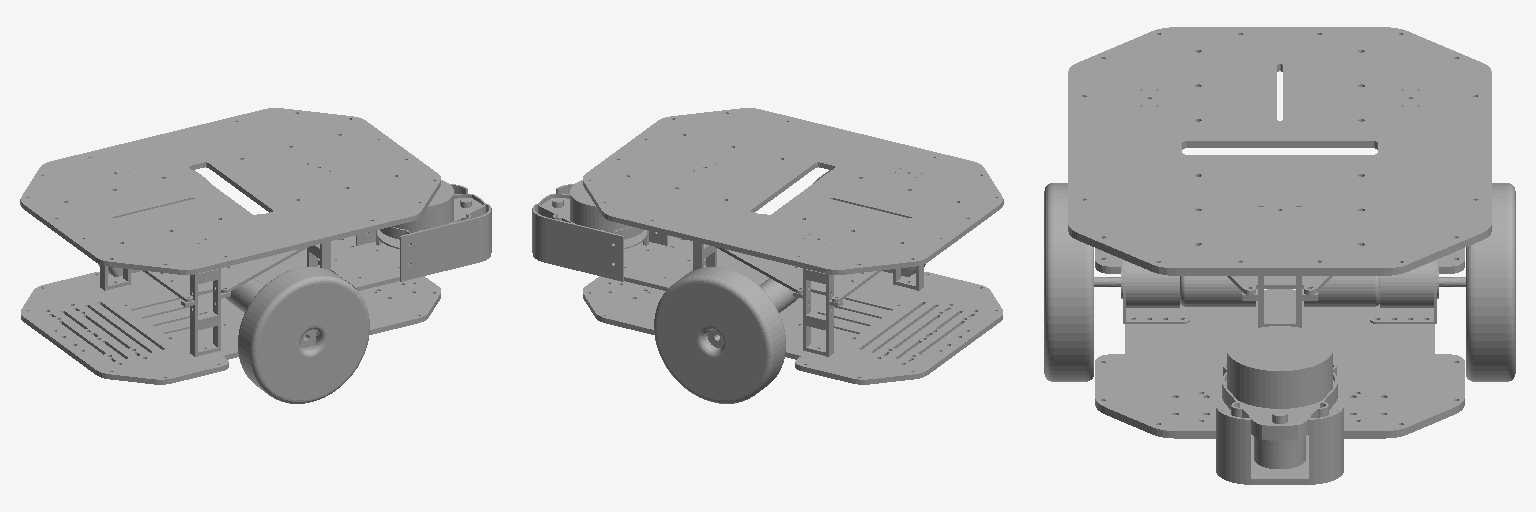
The robot description file, URDF, robot "lapras_urdf":
<?xml version="1.0" ?>
<!-- =================================================================================== -->
<!-- |    This document was autogenerated by xacro from lapras_urdf.xacro              | -->
<!-- |    EDITING THIS FILE BY HAND IS NOT RECOMMENDED                                 | -->
<!-- =================================================================================== -->
<robot name="lapras_urdf">
  <material name="silver">
    <color rgba="0.700 0.700 0.700 1.000"/>
  </material>
  <transmission name="left_wheel_joint_tran">
    <type>transmission_interface/SimpleTransmission</type>
    <joint name="left_wheel_joint">
      <hardwareInterface>hardware_interface/EffortJointInterface</hardwareInterface>
    </joint>
    <actuator name="left_wheel_joint_actr">
      <hardwareInterface>hardware_interface/EffortJointInterface</hardwareInterface>
      <mechanicalReduction>1</mechanicalReduction>
    </actuator>
  </transmission>
  <transmission name="right_wheel_joint_tran">
    <type>transmission_interface/SimpleTransmission</type>
    <joint name="right_wheel_joint">
      <hardwareInterface>hardware_interface/EffortJointInterface</hardwareInterface>
    </joint>
    <actuator name="right_wheel_joint_actr">
      <hardwareInterface>hardware_interface/EffortJointInterface</hardwareInterface>
      <mechanicalReduction>1</mechanicalReduction>
    </actuator>
  </transmission>
  <gazebo>
    <plugin filename="libgazebo_ros_control.so" name="control"/>
  </gazebo>
  <gazebo reference="base_link">
    <material>Gazebo/Silver</material>
    <mu1>0.2</mu1>
    <mu2>0.2</mu2>
    <selfCollide>true</selfCollide>
    <gravity>true</gravity>
  </gazebo>
  <gazebo reference="MotorBracket_v1_1">
    <material>Gazebo/Silver</material>
    <mu1>0.2</mu1>
    <mu2>0.2</mu2>
    <selfCollide>true</selfCollide>
  </gazebo>
  <gazebo reference="MotorBracket_v1__1__1">
    <material>Gazebo/Silver</material>
    <mu1>0.2</mu1>
    <mu2>0.2</mu2>
    <selfCollide>true</selfCollide>
  </gazebo>
  <gazebo reference="Motor_v1__1__1">
    <material>Gazebo/Silver</material>
    <mu1>0.2</mu1>
    <mu2>0.2</mu2>
    <selfCollide>true</selfCollide>
  </gazebo>
  <gazebo reference="Motor_v1_1">
    <material>Gazebo/Silver</material>
    <mu1>0.2</mu1>
    <mu2>0.2</mu2>
    <selfCollide>true</selfCollide>
  </gazebo>
  <gazebo reference="ydlidar_base_v5_1">
    <material>Gazebo/Silver</material>
    <mu1>0.2</mu1>
    <mu2>0.2</mu2>
    <selfCollide>true</selfCollide>
  </gazebo>
  <gazebo reference="Barbell_v4__2__1">
    <material>Gazebo/Silver</material>
    <mu1>0.2</mu1>
    <mu2>0.2</mu2>
    <selfCollide>true</selfCollide>
  </gazebo>
  <gazebo reference="Barbell_v4__1__1">
    <material>Gazebo/Silver</material>
    <mu1>0.2</mu1>
    <mu2>0.2</mu2>
    <selfCollide>true</selfCollide>
  </gazebo>
  <gazebo reference="Barbell_v4_1">
    <material>Gazebo/Silver</material>
    <mu1>0.2</mu1>
    <mu2>0.2</mu2>
    <selfCollide>true</selfCollide>
  </gazebo>
  <gazebo reference="mid_base_v8_1">
    <material>Gazebo/Silver</material>
    <mu1>0.2</mu1>
    <mu2>0.2</mu2>
    <selfCollide>true</selfCollide>
  </gazebo>
  <gazebo reference="ydlidar_x4_v1_1">
    <material>Gazebo/Silver</material>
    <mu1>0.2</mu1>
    <mu2>0.2</mu2>
    <selfCollide>true</selfCollide>
  </gazebo>
  <gazebo reference="topper_base_v7_1">
    <material>Gazebo/Silver</material>
    <mu1>0.2</mu1>
    <mu2>0.2</mu2>
    <selfCollide>true</selfCollide>
  </gazebo>
  <gazebo reference="left_wheel_1">
    <material>Gazebo/Silver</material>
    <mu1>0.2</mu1>
    <mu2>0.2</mu2>
    <selfCollide>true</selfCollide>
  </gazebo>
  <gazebo reference="right_wheel_1">
    <material>Gazebo/Silver</material>
    <mu1>0.2</mu1>
    <mu2>0.2</mu2>
    <selfCollide>true</selfCollide>
  </gazebo>
  <gazebo reference="caster_urdf_v2_1">
    <material>Gazebo/Silver</material>
    <mu1>0.2</mu1>
    <mu2>0.2</mu2>
    <selfCollide>true</selfCollide>
  </gazebo>
  <gazebo reference="caster_urdf_v2__1__1">
    <material>Gazebo/Silver</material>
    <mu1>0.2</mu1>
    <mu2>0.2</mu2>
    <selfCollide>true</selfCollide>
  </gazebo>
  <link name="base_link">
    <inertial>
      <origin rpy="0 0 0" xyz="0.003378781940864467 2.240969994186515e-06 0.06345999999999999"/>
      <mass value="2.66119702526629"/>
      <inertia ixx="0.00974" ixy="0.0" ixz="-0.0" iyy="0.026333" iyz="-0.0" izz="0.036062"/>
    </inertial>
    <visual>
      <origin rpy="0 0 0" xyz="0 0 0"/>
      <geometry>
        <mesh filename="package://lapras_sim/meshes/base_link.stl" scale="0.001 0.001 0.001"/>
      </geometry>
      <material name="silver"/>
    </visual>
    <collision>
      <origin rpy="0 0 0" xyz="0 0 0"/>
      <geometry>
        <mesh filename="package://lapras_sim/meshes/base_link.stl" scale="0.001 0.001 0.001"/>
      </geometry>
    </collision>
  </link>
  <link name="MotorBracket_v1_1">
    <inertial>
      <origin rpy="0 0 0" xyz="-0.015500002350700986 -0.006888187169975468 0.007341692818743625"/>
      <mass value="0.029603665959913542"/>
      <inertia ixx="9e-06" ixy="-0.0" ixz="0.0" iyy="8e-06" iyz="-2e-06" izz="9e-06"/>
    </inertial>
    <visual>
      <origin rpy="0 0 0" xyz="-0.0155 -0.09 -0.06596"/>
      <geometry>
        <mesh filename="package://lapras_sim/meshes/MotorBracket_v1_1.stl" scale="0.001 0.001 0.001"/>
      </geometry>
      <material name="silver"/>
    </visual>
    <collision>
      <origin rpy="0 0 0" xyz="-0.0155 -0.09 -0.06596"/>
      <geometry>
        <mesh filename="package://lapras_sim/meshes/MotorBracket_v1_1.stl" scale="0.001 0.001 0.001"/>
      </geometry>
    </collision>
  </link>
  <link name="MotorBracket_v1__1__1">
    <inertial>
      <origin rpy="0 0 0" xyz="0.01550000235070098 0.006888187169975399 0.007341692818743681"/>
      <mass value="0.029603665959913542"/>
      <inertia ixx="9e-06" ixy="-0.0" ixz="-0.0" iyy="8e-06" iyz="2e-06" izz="9e-06"/>
    </inertial>
    <visual>
      <origin rpy="0 0 0" xyz="0.0155 0.09 -0.06596"/>
      <geometry>
        <mesh filename="package://lapras_sim/meshes/MotorBracket_v1__1__1.stl" scale="0.001 0.001 0.001"/>
      </geometry>
      <material name="silver"/>
    </visual>
    <collision>
      <origin rpy="0 0 0" xyz="0.0155 0.09 -0.06596"/>
      <geometry>
        <mesh filename="package://lapras_sim/meshes/MotorBracket_v1__1__1.stl" scale="0.001 0.001 0.001"/>
      </geometry>
    </collision>
  </link>
  <link name="Motor_v1__1__1">
    <inertial>
      <origin rpy="0 0 0" xyz="-0.009191401001469089 -0.03790852980642254 0.009191999999481462"/>
      <mass value="0.47787780551719694"/>
      <inertia ixx="0.000299" ixy="-0.0" ixz="-0.0" iyy="5.6e-05" iyz="0.0" izz="0.000299"/>
    </inertial>
    <visual>
      <origin rpy="0 0 0" xyz="-0.009192 -0.094569 -0.075837"/>
      <geometry>
        <mesh filename="package://lapras_sim/meshes/Motor_v1__1__1.stl" scale="0.001 0.001 0.001"/>
      </geometry>
      <material name="silver"/>
    </visual>
    <collision>
      <origin rpy="0 0 0" xyz="-0.009192 -0.094569 -0.075837"/>
      <geometry>
        <mesh filename="package://lapras_sim/meshes/Motor_v1__1__1.stl" scale="0.001 0.001 0.001"/>
      </geometry>
    </collision>
  </link>
  <link name="Motor_v1_1">
    <inertial>
      <origin rpy="0 0 0" xyz="-0.009191400405422592 0.03790852980642258 0.009192000000518591"/>
      <mass value="0.47787780551719694"/>
      <inertia ixx="0.000299" ixy="0.0" ixz="0.0" iyy="5.6e-05" iyz="0.0" izz="0.000299"/>
    </inertial>
    <visual>
      <origin rpy="0 0 0" xyz="-0.009192 0.094569 -0.075837"/>
      <geometry>
        <mesh filename="package://lapras_sim/meshes/Motor_v1_1.stl" scale="0.001 0.001 0.001"/>
      </geometry>
      <material name="silver"/>
    </visual>
    <collision>
      <origin rpy="0 0 0" xyz="-0.009192 0.094569 -0.075837"/>
      <geometry>
        <mesh filename="package://lapras_sim/meshes/Motor_v1_1.stl" scale="0.001 0.001 0.001"/>
      </geometry>
    </collision>
  </link>
  <link name="ydlidar_base_v5_1">
    <inertial>
      <origin rpy="0 0 0" xyz="0.06761097664511198 0.020859849955070977 0.008623214289900732"/>
      <mass value="0.469663968235366"/>
      <inertia ixx="0.000427" ixy="-0.0" ixz="-6.2e-05" iyy="0.000887" iyz="0.0" izz="0.001181"/>
    </inertial>
    <visual>
      <origin rpy="0 0 0" xyz="-0.11914 0.02086 -0.06596"/>
      <geometry>
        <mesh filename="package://lapras_sim/meshes/ydlidar_base_v5_1.stl" scale="0.001 0.001 0.001"/>
      </geometry>
      <material name="silver"/>
    </visual>
    <collision>
      <origin rpy="0 0 0" xyz="-0.11914 0.02086 -0.06596"/>
      <geometry>
        <mesh filename="package://lapras_sim/meshes/ydlidar_base_v5_1.stl" scale="0.001 0.001 0.001"/>
      </geometry>
    </collision>
  </link>
  <link name="Barbell_v4__2__1">
    <inertial>
      <origin rpy="0 0 0" xyz="-5.551115123125783e-17 -3.1879089884571067e-15 0.052581463666413836"/>
      <mass value="0.09798102385329209"/>
      <inertia ixx="0.000112" ixy="0.0" ixz="0.0" iyy="0.000102" iyz="-0.0" izz="1.1e-05"/>
    </inertial>
    <visual>
      <origin rpy="0 0 0" xyz="-0.09 -0.0 -0.06596"/>
      <geometry>
        <mesh filename="package://lapras_sim/meshes/Barbell_v4__2__1.stl" scale="0.001 0.001 0.001"/>
      </geometry>
      <material name="silver"/>
    </visual>
    <collision>
      <origin rpy="0 0 0" xyz="-0.09 -0.0 -0.06596"/>
      <geometry>
        <mesh filename="package://lapras_sim/meshes/Barbell_v4__2__1.stl" scale="0.001 0.001 0.001"/>
      </geometry>
    </collision>
  </link>
  <link name="Barbell_v4__1__1">
    <inertial>
      <origin rpy="0 0 0" xyz="-3.2057689836051395e-15 -1.3877787807814457e-17 0.052581463666413794"/>
      <mass value="0.09798102385329208"/>
      <inertia ixx="0.000102" ixy="0.0" ixz="-0.0" iyy="0.000112" iyz="0.0" izz="1.1e-05"/>
    </inertial>
    <visual>
      <origin rpy="0 0 0" xyz="0.072 0.08 -0.06596"/>
      <geometry>
        <mesh filename="package://lapras_sim/meshes/Barbell_v4__1__1.stl" scale="0.001 0.001 0.001"/>
      </geometry>
      <material name="silver"/>
    </visual>
    <collision>
      <origin rpy="0 0 0" xyz="0.072 0.08 -0.06596"/>
      <geometry>
        <mesh filename="package://lapras_sim/meshes/Barbell_v4__1__1.stl" scale="0.001 0.001 0.001"/>
      </geometry>
    </collision>
  </link>
  <link name="Barbell_v4_1">
    <inertial>
      <origin rpy="0 0 0" xyz="3.1780134079895106e-15 0.0 0.05258146366641378"/>
      <mass value="0.09798102385329209"/>
      <inertia ixx="0.000102" ixy="0.0" ixz="0.0" iyy="0.000112" iyz="0.0" izz="1.1e-05"/>
    </inertial>
    <visual>
      <origin rpy="0 0 0" xyz="0.072 -0.08 -0.06596"/>
      <geometry>
        <mesh filename="package://lapras_sim/meshes/Barbell_v4_1.stl" scale="0.001 0.001 0.001"/>
      </geometry>
      <material name="silver"/>
    </visual>
    <collision>
      <origin rpy="0 0 0" xyz="0.072 -0.08 -0.06596"/>
      <geometry>
        <mesh filename="package://lapras_sim/meshes/Barbell_v4_1.stl" scale="0.001 0.001 0.001"/>
      </geometry>
    </collision>
  </link>
  <link name="mid_base_v8_1">
    <inertial>
      <origin rpy="0 0 0" xyz="0.07124371334793965 -0.0799683699998151 0.001500000000000043"/>
      <mass value="0.49453185821915246"/>
      <inertia ixx="0.000754" ixy="4e-06" ixz="0.0" iyy="0.001164" iyz="0.0" izz="0.001918"/>
    </inertial>
    <visual>
      <origin rpy="0 0 0" xyz="0.0905 -0.08 -0.12021"/>
      <geometry>
        <mesh filename="package://lapras_sim/meshes/mid_base_v8_1.stl" scale="0.001 0.001 0.001"/>
      </geometry>
      <material name="silver"/>
    </visual>
    <collision>
      <origin rpy="0 0 0" xyz="0.0905 -0.08 -0.12021"/>
      <geometry>
        <mesh filename="package://lapras_sim/meshes/mid_base_v8_1.stl" scale="0.001 0.001 0.001"/>
      </geometry>
    </collision>
  </link>
  <link name="ydlidar_x4_v1_1">
    <inertial>
      <origin rpy="0 0 0" xyz="0.03029455171374079 0.030999849954996873 0.03770114222279111"/>
      <mass value="1.1515616542314233"/>
      <inertia ixx="0.000489" ixy="-0.0" ixz="0.000148" iyy="0.000861" iyz="-0.0" izz="0.000987"/>
    </inertial>
    <visual>
      <origin rpy="0 0 0" xyz="-0.168364 0.031 -0.06996"/>
      <geometry>
        <mesh filename="package://lapras_sim/meshes/ydlidar_x4_v1_1.stl" scale="0.001 0.001 0.001"/>
      </geometry>
      <material name="silver"/>
    </visual>
    <collision>
      <origin rpy="0 0 0" xyz="-0.168364 0.031 -0.06996"/>
      <geometry>
        <mesh filename="package://lapras_sim/meshes/ydlidar_x4_v1_1.stl" scale="0.001 0.001 0.001"/>
      </geometry>
    </collision>
  </link>
  <link name="topper_base_v7_1">
    <inertial>
      <origin rpy="0 0 0" xyz="0.07230390007609636 -0.07999999999999996 0.0024999999999999745"/>
      <mass value="3.18470053243339"/>
      <inertia ixx="0.016652" ixy="0.0" ixz="0.0" iyy="0.029765" iyz="0.0" izz="0.046404"/>
    </inertial>
    <visual>
      <origin rpy="0 0 0" xyz="0.072 -0.08 -0.17096"/>
      <geometry>
        <mesh filename="package://lapras_sim/meshes/topper_base_v7_1.stl" scale="0.001 0.001 0.001"/>
      </geometry>
      <material name="silver"/>
    </visual>
    <collision>
      <origin rpy="0 0 0" xyz="0.072 -0.08 -0.17096"/>
      <geometry>
        <mesh filename="package://lapras_sim/meshes/topper_base_v7_1.stl" scale="0.001 0.001 0.001"/>
      </geometry>
    </collision>
  </link>
  <link name="left_wheel_1">
    <inertial>
      <origin rpy="0 0 0" xyz="-2.979255688107887e-10 0.015140536035911395 1.3877787807814457e-17"/>
      <mass value="2.7295236460278423"/>
      <inertia ixx="0.002744" ixy="-0.0" ixz="0.0" iyy="0.005075" iyz="0.0" izz="0.002744"/>
    </inertial>
    <visual>
      <origin rpy="0 0 0" xyz="0.0 -0.113869 -0.085029"/>
      <geometry>
        <mesh filename="package://lapras_sim/meshes/left_wheel_1.stl" scale="0.001 0.001 0.001"/>
      </geometry>
      <material name="silver"/>
    </visual>
    <collision>
      <origin rpy="0 0 0" xyz="0.0 -0.113869 -0.085029"/>
      <geometry>
        <mesh filename="package://lapras_sim/meshes/left_wheel_1.stl" scale="0.001 0.001 0.001"/>
      </geometry>
    </collision>
  </link>
  <link name="right_wheel_1">
    <inertial>
      <origin rpy="0 0 0" xyz="2.981209200907584e-10 -0.015140536035911367 9.71445146547012e-17"/>
      <mass value="2.7295236460278423"/>
      <inertia ixx="0.002744" ixy="0.0" ixz="0.0" iyy="0.005075" iyz="0.0" izz="0.002744"/>
    </inertial>
    <visual>
      <origin rpy="0 0 0" xyz="-0.0 0.113869 -0.085029"/>
      <geometry>
        <mesh filename="package://lapras_sim/meshes/right_wheel_1.stl" scale="0.001 0.001 0.001"/>
      </geometry>
      <material name="silver"/>
    </visual>
    <collision>
      <origin rpy="0 0 0" xyz="-0.0 0.113869 -0.085029"/>
      <geometry>
        <mesh filename="package://lapras_sim/meshes/right_wheel_1.stl" scale="0.001 0.001 0.001"/>
      </geometry>
    </collision>
  </link>
  <link name="caster_urdf_v4__1__1">
    <inertial>
      <origin rpy="0 0 0" xyz="-9.828451930510296e-06 4.13190816823857e-06 -0.00964031607284841"/>
      <mass value="0.14226334327662343"/>
      <inertia ixx="1.9e-05" ixy="0.0" ixz="-0.0" iyy="2.2e-05" iyz="0.0" izz="2.3e-05"/>
    </inertial>
    <visual>
      <origin rpy="0 0 0" xyz="-0.14 -0.0 -0.06096"/>
      <geometry>
        <mesh filename="package://lapras_sim/meshes/caster_urdf_v4__1__1.stl" scale="0.001 0.001 0.001"/>
      </geometry>
      <material name="silver"/>
    </visual>
    <collision>
      <origin rpy="0 0 0" xyz="-0.14 -0.0 -0.06096"/>
      <geometry>
        <mesh filename="package://lapras_sim/meshes/caster_urdf_v4__1__1.stl" scale="0.001 0.001 0.001"/>
      </geometry>
    </collision>
  </link>
  <link name="caster_urdf_v4_1">
    <inertial>
      <origin rpy="0 0 0" xyz="0.012490171548069612 0.009504131908168236 -0.00964031607284841"/>
      <mass value="0.14226334327662343"/>
      <inertia ixx="1.9e-05" ixy="0.0" ixz="-0.0" iyy="2.2e-05" iyz="0.0" izz="2.3e-05"/>
    </inertial>
    <visual>
      <origin rpy="0 0 0" xyz="0.14 0.0095 -0.06096"/>
      <geometry>
        <mesh filename="package://lapras_sim/meshes/caster_urdf_v4_1.stl" scale="0.001 0.001 0.001"/>
      </geometry>
      <material name="silver"/>
    </visual>
    <collision>
      <origin rpy="0 0 0" xyz="0.14 0.0095 -0.06096"/>
      <geometry>
        <mesh filename="package://lapras_sim/meshes/caster_urdf_v4_1.stl" scale="0.001 0.001 0.001"/>
      </geometry>
    </collision>
  </link>
  <joint name="Rigid29" type="fixed">
    <origin rpy="0 0 0" xyz="0.0155 0.09 0.06596"/>
    <parent link="base_link"/>
    <child link="MotorBracket_v1_1"/>
  </joint>
  <joint name="Rigid30" type="fixed">
    <origin rpy="0 0 0" xyz="-0.0155 -0.09 0.06596"/>
    <parent link="base_link"/>
    <child link="MotorBracket_v1__1__1"/>
  </joint>
  <joint name="Rigid31" type="fixed">
    <origin rpy="0 0 0" xyz="-0.006308 0.004569 0.009877"/>
    <parent link="MotorBracket_v1_1"/>
    <child link="Motor_v1__1__1"/>
  </joint>
  <joint name="Rigid32" type="fixed">
    <origin rpy="0 0 0" xyz="0.024692 -0.004569 0.009877"/>
    <parent link="MotorBracket_v1__1__1"/>
    <child link="Motor_v1_1"/>
  </joint>
  <joint name="Rigid35" type="fixed">
    <origin rpy="0 0 0" xyz="0.11914 -0.02086 0.06596"/>
    <parent link="base_link"/>
    <child link="ydlidar_base_v5_1"/>
  </joint>
  <joint name="Rigid36" type="fixed">
    <origin rpy="0 0 0" xyz="0.09 0.0 0.06596"/>
    <parent link="base_link"/>
    <child link="Barbell_v4__2__1"/>
  </joint>
  <joint name="Rigid37" type="fixed">
    <origin rpy="0 0 0" xyz="-0.072 -0.08 0.06596"/>
    <parent link="base_link"/>
    <child link="Barbell_v4__1__1"/>
  </joint>
  <joint name="Rigid38" type="fixed">
    <origin rpy="0 0 0" xyz="-0.072 0.08 0.06596"/>
    <parent link="base_link"/>
    <child link="Barbell_v4_1"/>
  </joint>
  <joint name="Rigid39" type="fixed">
    <origin rpy="0 0 0" xyz="-0.0185 0.0 0.05425"/>
    <parent link="Barbell_v4_1"/>
    <child link="mid_base_v8_1"/>
  </joint>
  <joint name="Rigid40" type="fixed">
    <origin rpy="0 0 0" xyz="0.049224 -0.01014 0.004"/>
    <parent link="ydlidar_base_v5_1"/>
    <child link="ydlidar_x4_v1_1"/>
  </joint>
  <joint name="Rigid41" type="fixed">
    <origin rpy="0 0 0" xyz="0.0 0.0 0.105"/>
    <parent link="Barbell_v4_1"/>
    <child link="topper_base_v7_1"/>
  </joint>
  <joint name="left_wheel_joint" type="continuous">
    <origin rpy="0 0 0" xyz="-0.009192 0.0193 0.009192"/>
    <parent link="Motor_v1__1__1"/>
    <child link="left_wheel_1"/>
    <axis xyz="0.0 1.0 0.0"/>
  </joint>
  <joint name="right_wheel_joint" type="continuous">
    <origin rpy="0 0 0" xyz="-0.009192 -0.0193 0.009192"/>
    <parent link="Motor_v1_1"/>
    <child link="right_wheel_1"/>
    <axis xyz="-0.0 -1.0 0.0"/>
  </joint>
  <joint name="Rigid50" type="fixed">
    <origin rpy="0 0 0" xyz="0.14 0.0 0.06096"/>
    <parent link="base_link"/>
    <child link="caster_urdf_v4__1__1"/>
  </joint>
  <joint name="Rigid51" type="fixed">
    <origin rpy="0 0 0" xyz="-0.14 -0.0095 0.06096"/>
    <parent link="base_link"/>
    <child link="caster_urdf_v4_1"/>
  </joint>
</robot>

--- What the picture shows (computed from the rendered views, not written in the file) ---
The picture shows the robot from 3 angles, left to right: view 1: azimuth 30°, elevation 25°; view 2: azimuth 150°, elevation 25°; view 3: azimuth 270°, elevation 25°; orthographic projection.
Robot: lapras_urdf — 16 links, 15 joints (2 continuous, 13 fixed); root link base_link; default pose: all joints at 0.
Visible links, largest first — view 1: topper_base_v7_1, base_link, right_wheel_1, ydlidar_base_v5_1, ydlidar_x4_v1_1, mid_base_v8_1, Barbell_v4__1__1, Motor_v1_1, Barbell_v4__2__1; view 2: topper_base_v7_1, base_link, left_wheel_1, ydlidar_base_v5_1, ydlidar_x4_v1_1, mid_base_v8_1, Barbell_v4_1, Motor_v1__1__1, Barbell_v4__2__1; view 3: topper_base_v7_1, base_link, ydlidar_x4_v1_1, left_wheel_1, right_wheel_1, ydlidar_base_v5_1, Motor_v1__1__1, Motor_v1_1, MotorBracket_v1_1, MotorBracket_v1__1__1, mid_base_v8_1, Barbell_v4__2__1.
Boxes of the visible links, box(x1,y1,x2,y2) form: topper_base_v7_1: box(20, 108, 440, 274); base_link: box(21, 235, 440, 384); right_wheel_1: box(238, 267, 369, 403); ydlidar_base_v5_1: box(318, 184, 491, 290); ydlidar_x4_v1_1: box(376, 180, 485, 263); mid_base_v8_1: box(143, 214, 307, 301); Barbell_v4__1__1: box(181, 234, 230, 356); Motor_v1_1: box(226, 278, 263, 312); Barbell_v4__2__1: box(307, 161, 330, 270); topper_base_v7_1: box(583, 108, 1003, 274); base_link: box(583, 235, 1002, 384); left_wheel_1: box(654, 267, 785, 403); ydlidar_base_v5_1: box(532, 184, 705, 290); ydlidar_x4_v1_1: box(538, 180, 648, 248); mid_base_v8_1: box(716, 214, 880, 302); Barbell_v4_1: box(793, 234, 842, 356); Motor_v1__1__1: box(760, 278, 797, 312); Barbell_v4__2__1: box(693, 161, 716, 270); topper_base_v7_1: box(1068, 27, 1491, 275); base_link: box(1095, 248, 1464, 438); ydlidar_x4_v1_1: box(1222, 326, 1337, 468); left_wheel_1: box(1466, 183, 1515, 381); right_wheel_1: box(1044, 183, 1093, 381); ydlidar_base_v5_1: box(1216, 349, 1343, 484); Motor_v1__1__1: box(1304, 261, 1465, 307); Motor_v1_1: box(1094, 261, 1255, 307); MotorBracket_v1_1: box(1370, 260, 1436, 323); MotorBracket_v1__1__1: box(1123, 260, 1189, 323); mid_base_v8_1: box(1227, 276, 1332, 294); Barbell_v4__2__1: box(1242, 207, 1317, 327).
Size in the robot's own frame: 0.4314 by 0.2887 by 0.1518 metres.
14 mesh visuals loaded from 16 distinct referenced files (14 binary STL); not drawn: 2 (reference not matched to a file when rendering).